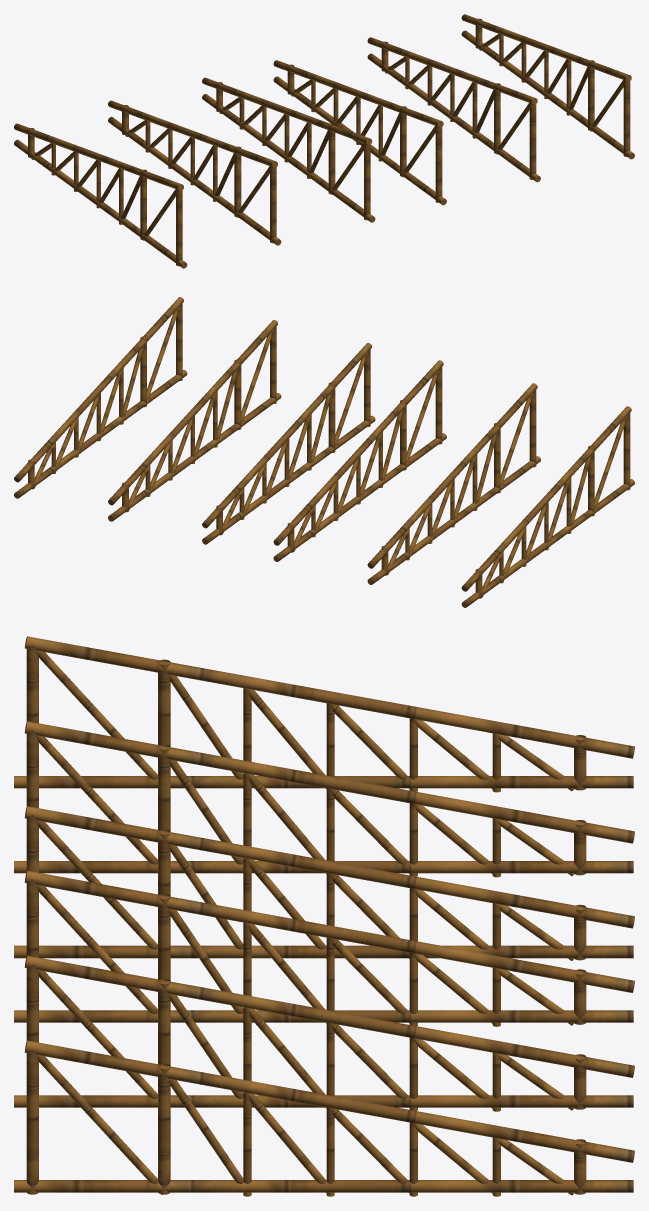
The model's file is 08 CERCHAS.glb.
The picture shows the model from 3 angles, top to bottom: view 1: azimuth 30°, elevation 25°; view 2: azimuth 150°, elevation 25°; view 3: azimuth 270°, elevation 25°; orthographic projection. The views are drawn at different scales.
Parts seen in each view (by area): view 1: CERCHA_MODULAR (×6); view 2: CERCHA_MODULAR (×6); view 3: CERCHA_MODULAR (×6).
Part boxes in pixels (x1,y1,x2,y2): CERCHA_MODULAR (×6): [14, 14, 634, 268]; CERCHA_MODULAR (×6): [14, 297, 634, 607]; CERCHA_MODULAR (×6): [14, 636, 634, 1196].
Size of the model in its own units: 6.99 by 1.23 by 4.48.
Materials: 1522 (1522 with a texture image).
